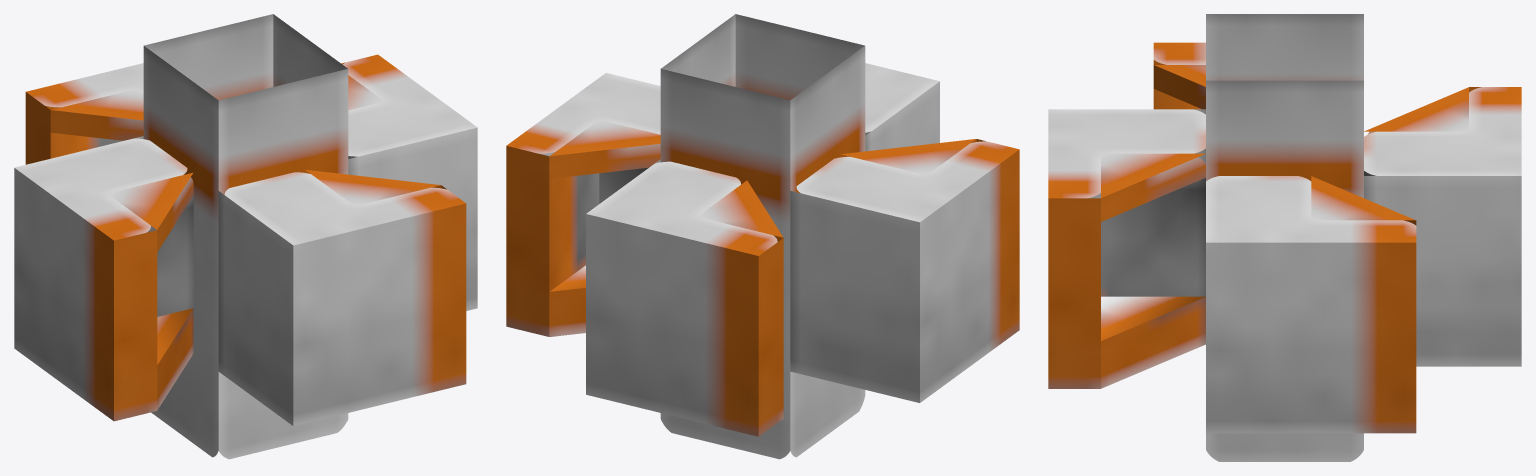
The model's file is crusher_1.obj.
3 views of the same model, side by side, from view 1: azimuth 30°, elevation 25°; view 2: azimuth 150°, elevation 25°; view 3: azimuth 270°, elevation 25° (orthographic). The views are drawn at different scales.
Parts seen in each view (by area): view 1: round_cube.003; view 2: round_cube.003; view 3: round_cube.003.
Part boxes in pixels (x1,y1,x2,y2): round_cube.003: (14,14,477,459); round_cube.003: (506,14,1019,459); round_cube.003: (1048,14,1521,461).
Bounding box in the file's own units: 1.12 × 1 × 1.12.
